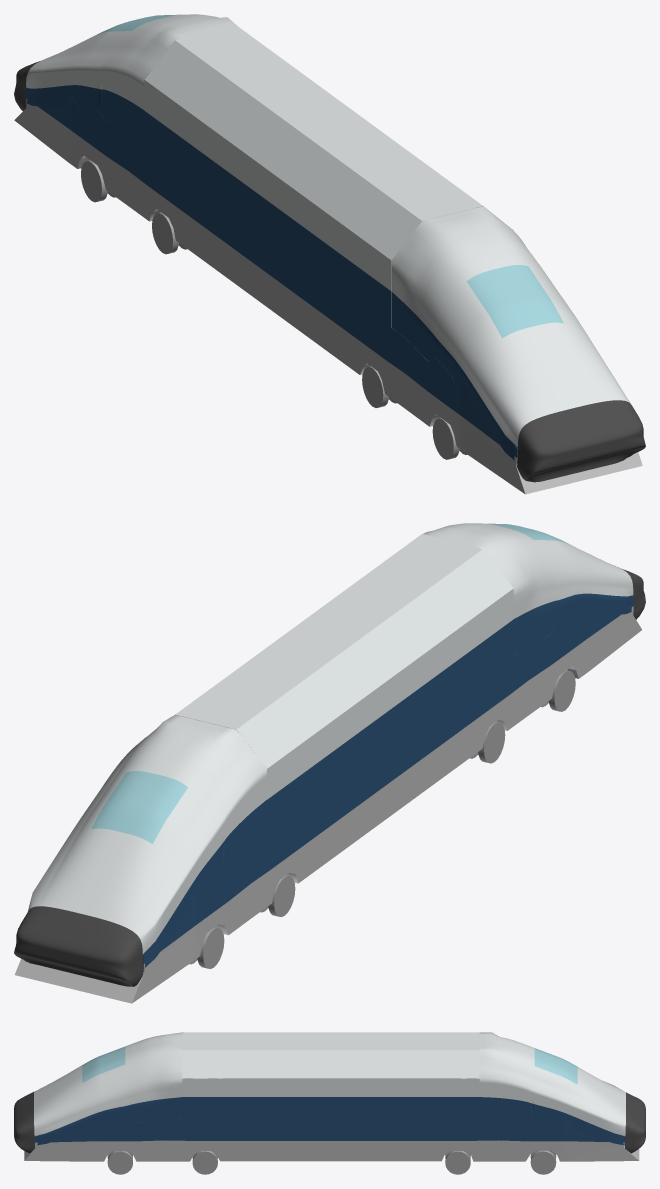
File: TGV.fbx
The picture shows the model from 3 angles, top to bottom: view 1: azimuth 30°, elevation 25°; view 2: azimuth 150°, elevation 25°; view 3: azimuth 270°, elevation 25°; orthographic projection. The views are drawn at different scales.
Parts seen in each view (by area): view 1: polySurface2, polySurface1, polySurface3, pCylinder1, pCylinder8, pCylinder16, pCylinder12; view 2: polySurface2, polySurface3, polySurface1, pCylinder1, pCylinder16, pCylinder8, pCylinder12; view 3: polySurface2, polySurface1, polySurface3, pCylinder4, pCylinder5, pCylinder13, pCylinder9.
Part boxes in pixels (bbox=[...]): polySurface2: bbox=[14, 25, 642, 494]; polySurface1: bbox=[391, 206, 645, 482]; polySurface3: bbox=[14, 14, 236, 143]; pCylinder1: bbox=[81, 160, 107, 202]; pCylinder8: bbox=[152, 212, 178, 254]; pCylinder16: bbox=[432, 418, 459, 459]; pCylinder12: bbox=[362, 366, 388, 407]; polySurface2: bbox=[14, 534, 641, 1003]; polySurface3: bbox=[14, 715, 266, 986]; polySurface1: bbox=[423, 523, 645, 654]; pCylinder1: bbox=[197, 927, 224, 968]; pCylinder16: bbox=[548, 670, 575, 711]; pCylinder8: bbox=[268, 875, 295, 917]; pCylinder12: bbox=[478, 721, 505, 763]; polySurface2: bbox=[24, 1032, 639, 1161]; polySurface1: bbox=[14, 1032, 183, 1153]; polySurface3: bbox=[479, 1032, 645, 1153]; pCylinder4: bbox=[530, 1150, 556, 1174]; pCylinder5: bbox=[445, 1151, 470, 1174]; pCylinder13: bbox=[107, 1151, 132, 1174]; pCylinder9: bbox=[192, 1151, 217, 1174].
Bounding box in the file's own units: 4 × 6 × 29.71.
